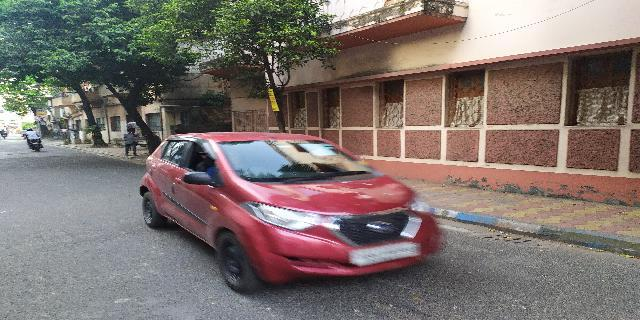Car: (135, 127, 447, 301)
Motorbike: (20, 123, 47, 155)
